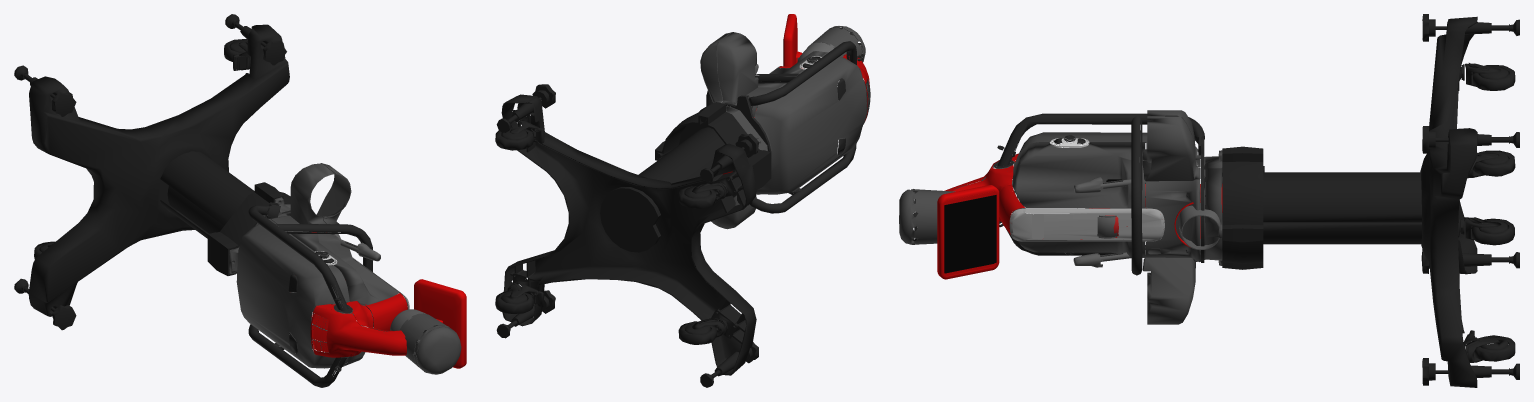
The model's file is baxter.glb.
The picture shows the model from 3 angles, left to right: view 1: azimuth 30°, elevation 25°; view 2: azimuth 150°, elevation 25°; view 3: azimuth 270°, elevation 25°; orthographic projection. The views are drawn at different scales.
Parts seen in each view (by area): view 1: base, left_upper_shoulder; view 2: base; view 3: base, left_upper_shoulder, left_lower_forearm.
Part boxes in pixels (x1,y1,x2,y2): base: (14, 14, 466, 387); left_upper_shoulder: (295, 232, 380, 327); base: (495, 14, 870, 387); base: (899, 14, 1519, 387); left_upper_shoulder: (1073, 177, 1158, 267); left_lower_forearm: (1178, 203, 1222, 250).
Bounding box in the file's own units: 0.9142 × 0.8225 × 1.8.
